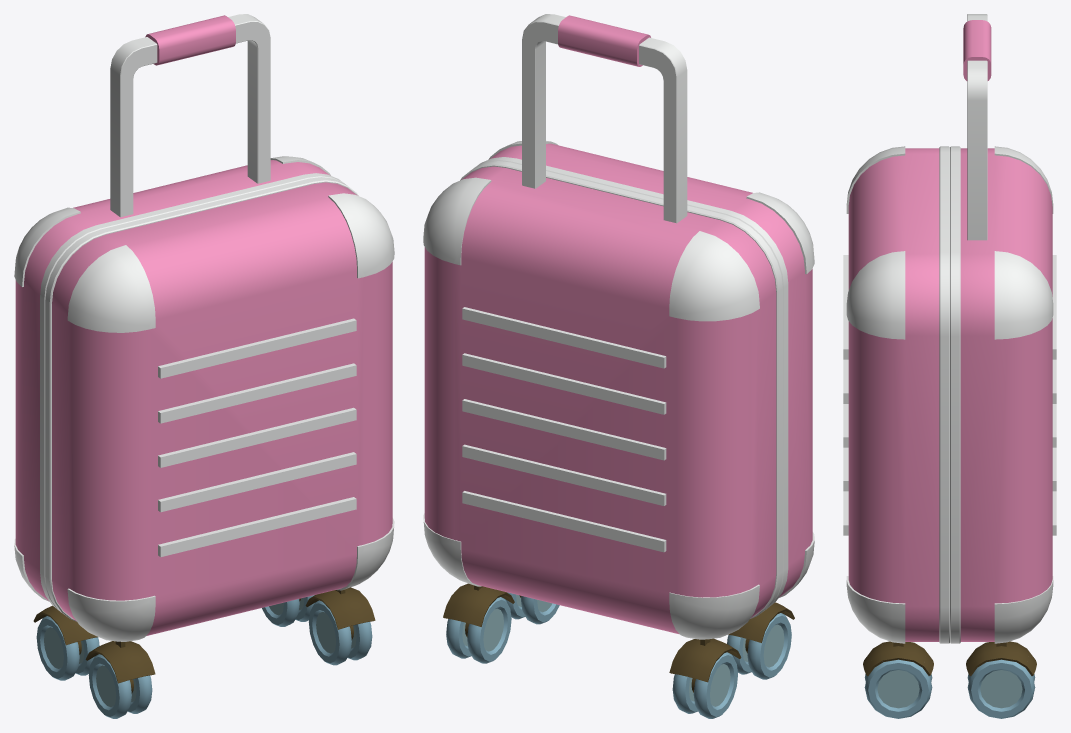
File: Case02A.fbx
The picture shows the model from 3 angles, left to right: view 1: azimuth 30°, elevation 25°; view 2: azimuth 150°, elevation 25°; view 3: azimuth 270°, elevation 25°; orthographic projection. The views are drawn at different scales.
Parts seen in each view (by area): view 1: Case02A, Case02AHandle; view 2: Case02A, Case02AHandle; view 3: Case02A, Case02AHandle.
Part boxes in pixels (left/top/right/bottom): Case02A: left=14, top=156, right=394, bottom=718; Case02AHandle: left=110, top=14, right=270, bottom=217; Case02A: left=423, top=141, right=814, bottom=718; Case02AHandle: left=522, top=14, right=687, bottom=223; Case02A: left=843, top=146, right=1056, bottom=718; Case02AHandle: left=963, top=14, right=991, bottom=240.
Size of the model in its own units: 58.32 by 110 by 34.19.
